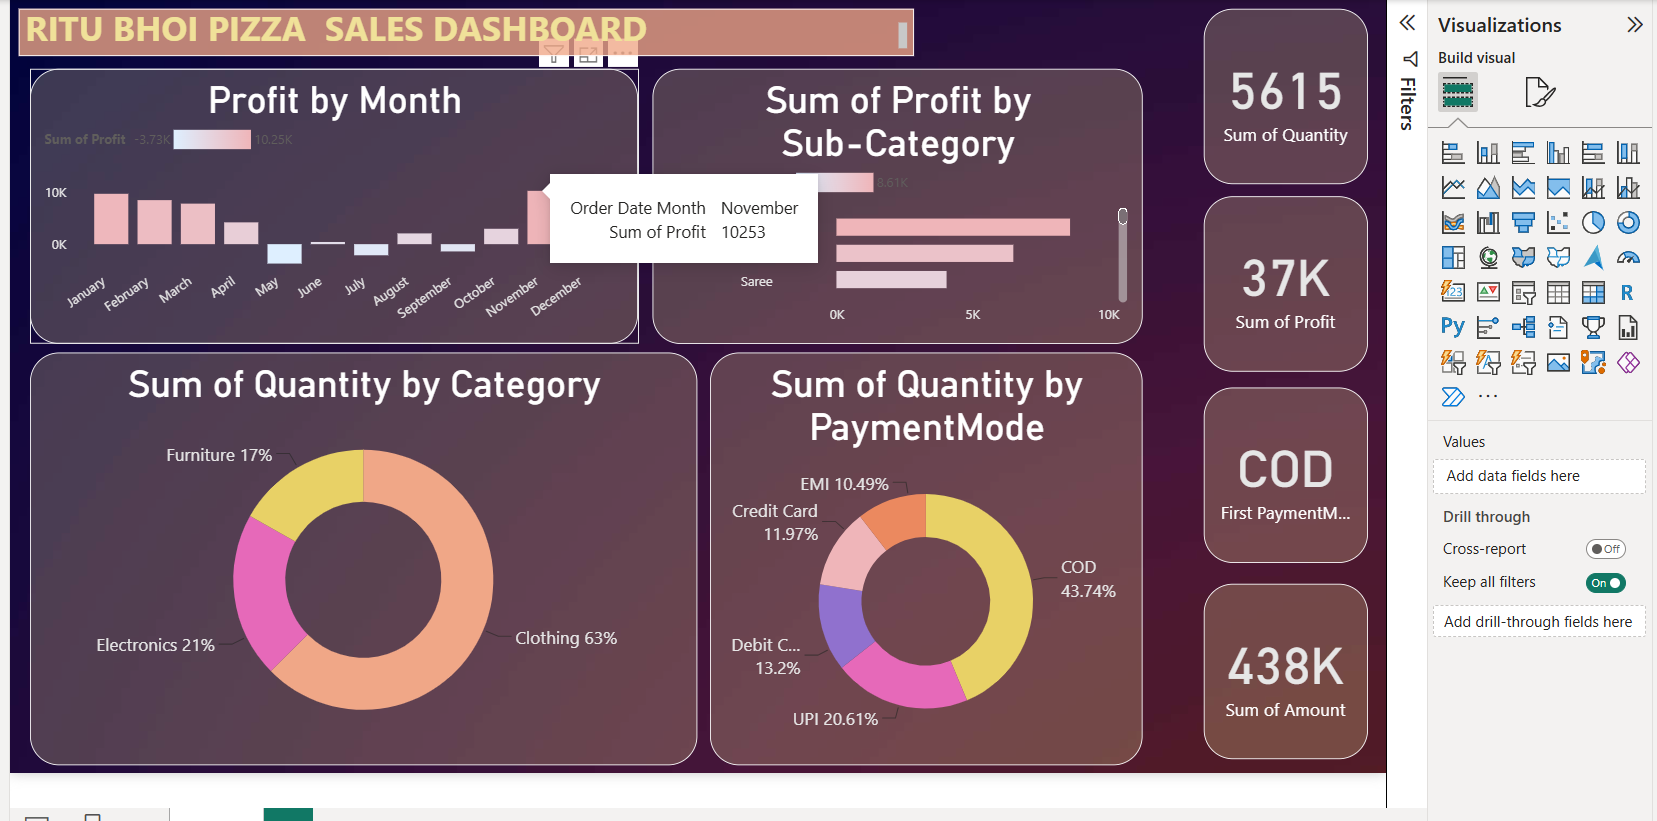

The page's visual inventory and layout, read from the dashboard file:
{"tool":"powerbi","page":{"name":"Page 1","canvas":[1280,720],"ordinal":0},"visuals":[{"type":"columnChart","title":" Profit by Month","fields":{"Y":["Sum(power bi details.Profit)"],"Category":["power bi orders.Order Date.Variation.Date Hierarchy.Month"]},"box":[18.6,64,565.8,255.8],"z":0},{"type":"textbox","box":[8.1,8.1,832.6,44.2],"z":1000},{"type":"barChart","fields":{"Category":["power bi details.Sub-Category"],"Y":["Sum(power bi details.Profit)"]},"box":[597.7,64,456,255.8],"z":2000},{"type":"donutChart","fields":{"Category":["power bi details.Category"],"Y":["Sum(power bi details.Quantity)"]},"box":[18.6,327.9,620.9,383.7],"z":3000},{"type":"pieChart","fields":{"Category":["power bi details.PaymentMode"],"Y":["Sum(power bi details.Quantity)"]},"box":[651.2,327.9,402.3,383.7],"z":4000},{"type":"card","fields":{"Values":["Sum(power bi details.Quantity)"]},"box":[1110.5,8.1,153,163],"z":5000},{"type":"card","fields":{"Values":["Sum(power bi details.Profit)"]},"box":[1110.5,182.6,153,163],"z":6000},{"type":"card","fields":{"Values":["Min(power bi details.PaymentMode)"]},"box":[1110.5,360.5,153,163],"z":7000},{"type":"card","fields":{"Values":["Sum(power bi details.Amount)"]},"box":[1110.5,543,153,163],"z":8000}]}

Visuals, with their boxes in screenshot pixels (x1, y1, x2, y2):
" Profit by Month" columnChart: x1=197 y1=65 x2=810 y2=342
textbox: x1=186 y1=4 x2=1088 y2=52
barChart - power bi details.Sub-Category x Sum(power bi details.Profit): x1=824 y1=65 x2=1318 y2=342
donutChart - power bi details.Category x Sum(power bi details.Quantity): x1=197 y1=351 x2=870 y2=766
pieChart - power bi details.PaymentMode x Sum(power bi details.Quantity): x1=882 y1=351 x2=1318 y2=766
card - Sum(power bi details.Quantity): x1=1380 y1=4 x2=1545 y2=181
card - Sum(power bi details.Profit): x1=1380 y1=193 x2=1545 y2=370
card - Min(power bi details.PaymentMode): x1=1380 y1=386 x2=1545 y2=563
card - Sum(power bi details.Amount): x1=1380 y1=584 x2=1545 y2=760
